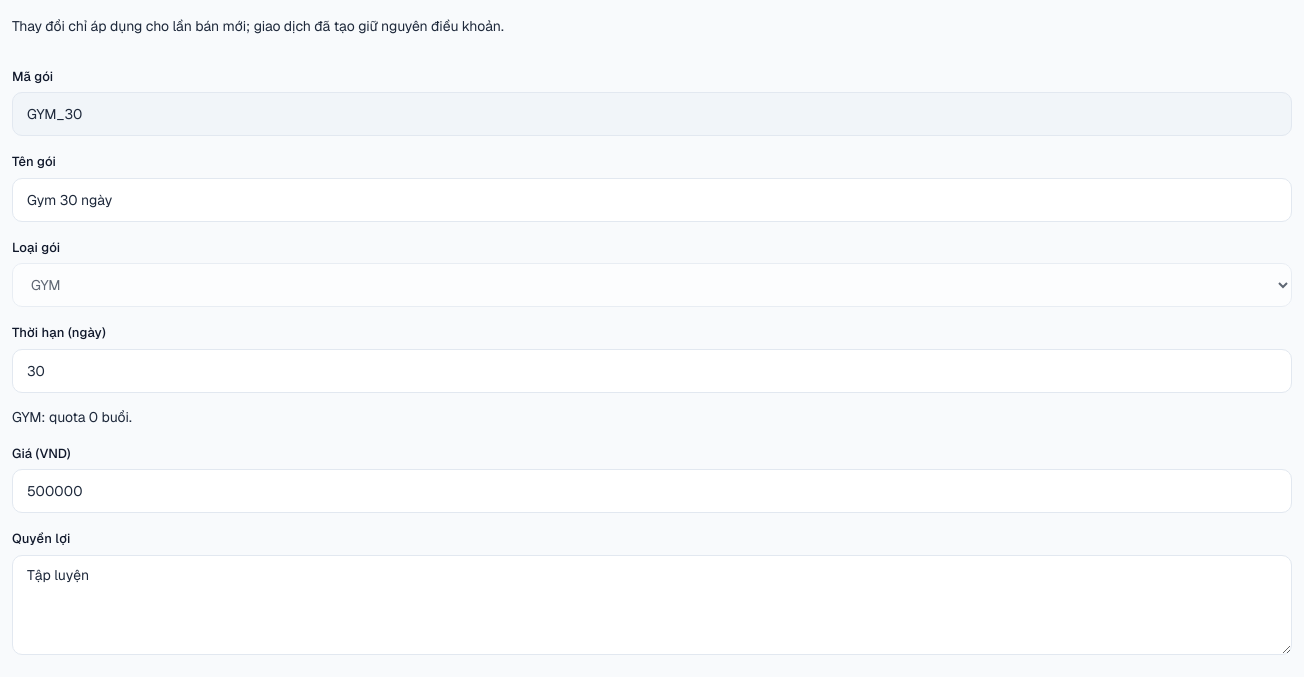
Test case: US-12 TC15: catalog and forms › 409 keeps draft until explicit reload; immutable code/kind omitted from PATCH
The width and height of the screenshot is (1304, 677).
Replace the text in the field labelled "Tên gói" with "Bản nhập đang sửa": (652, 200) [12, 178, 1292, 222]
(page scrolled)
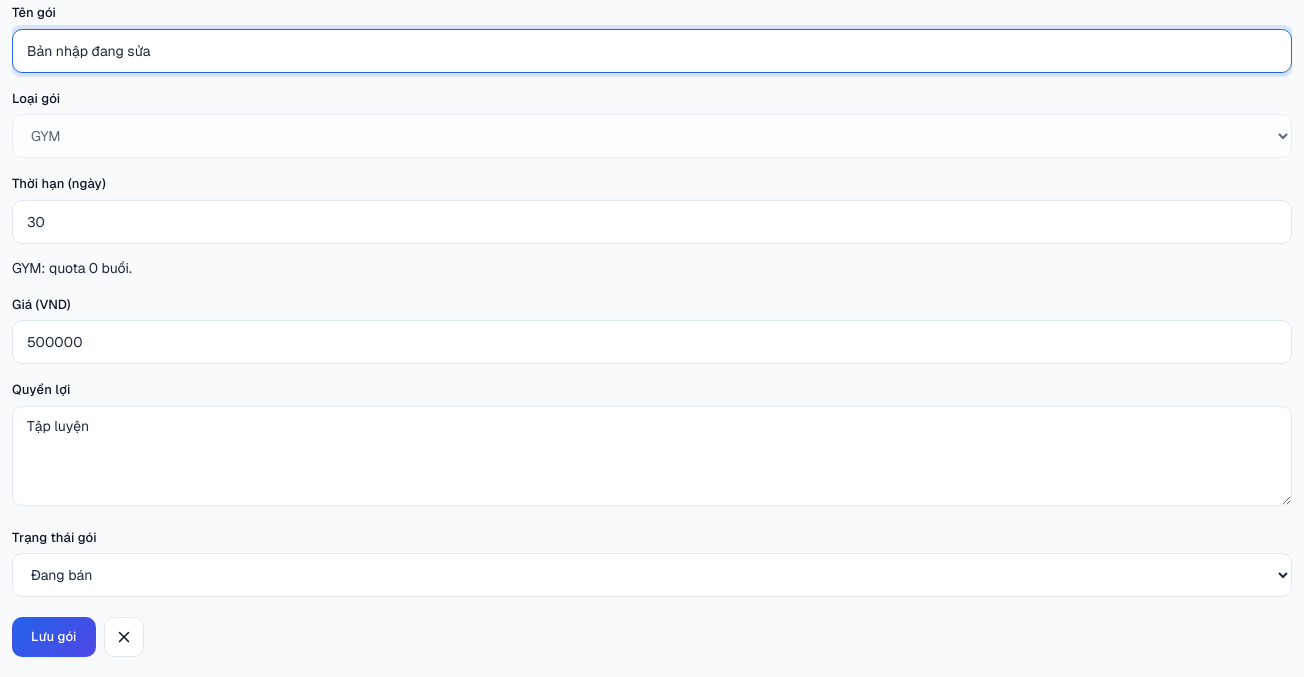
Click the button "Lưu gói": (54, 637) [12, 617, 96, 657]
(page scrolled)
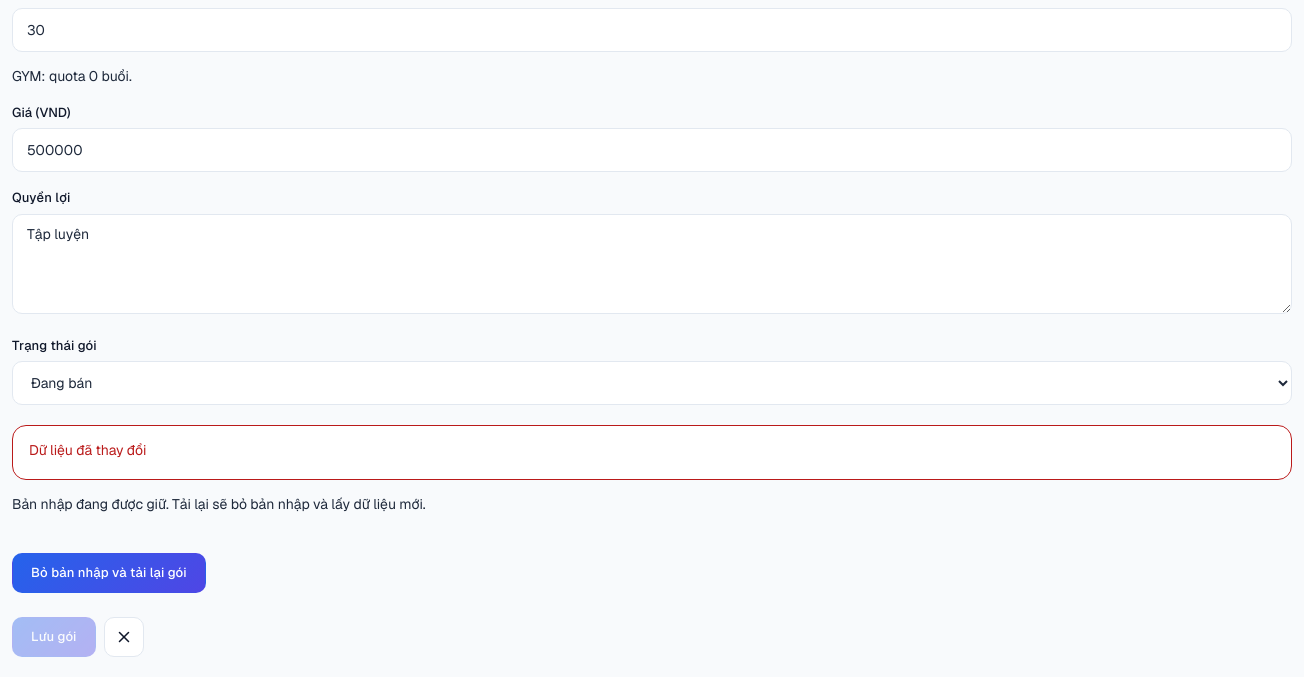
Check: the message "Dữ liệu đã thay đổi" is shown, box [12, 425, 1292, 480]
Click the button "Bỏ bản nhập và tải lại gói": (109, 573) [12, 553, 206, 593]
(page scrolled)
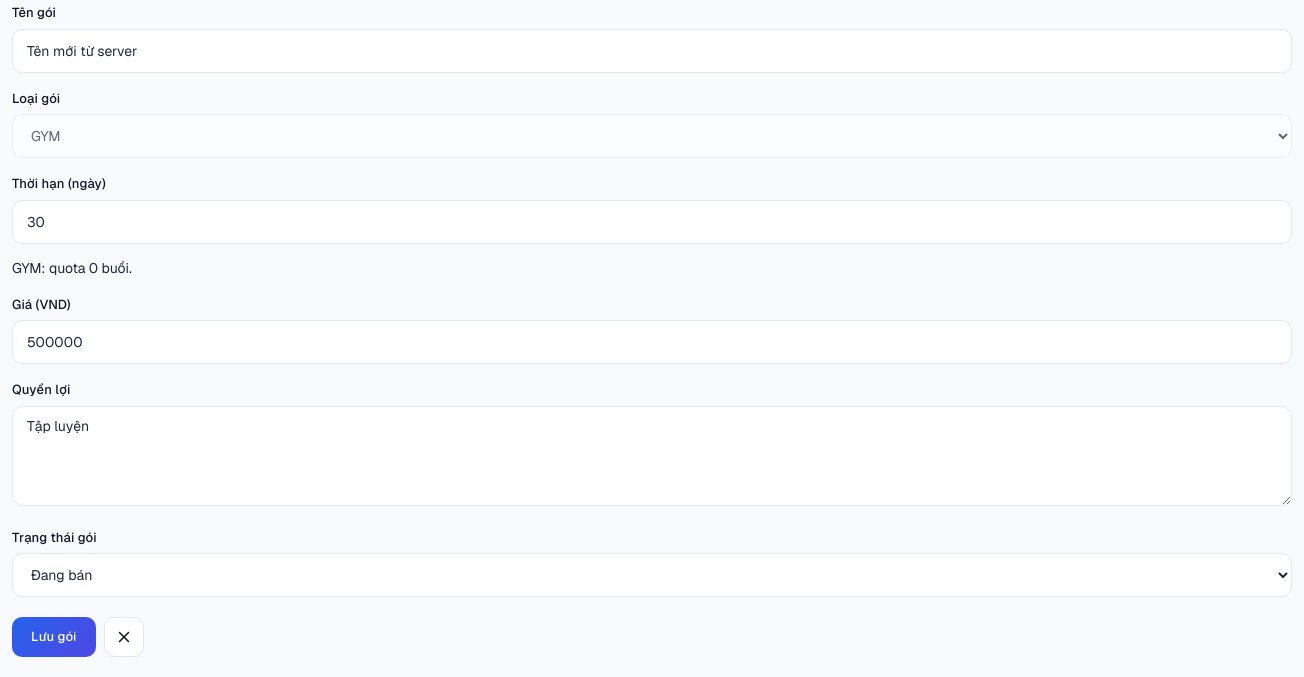
Check: the field labelled "Tên gói" holds "Tên mới từ server", box [12, 29, 1292, 73]
